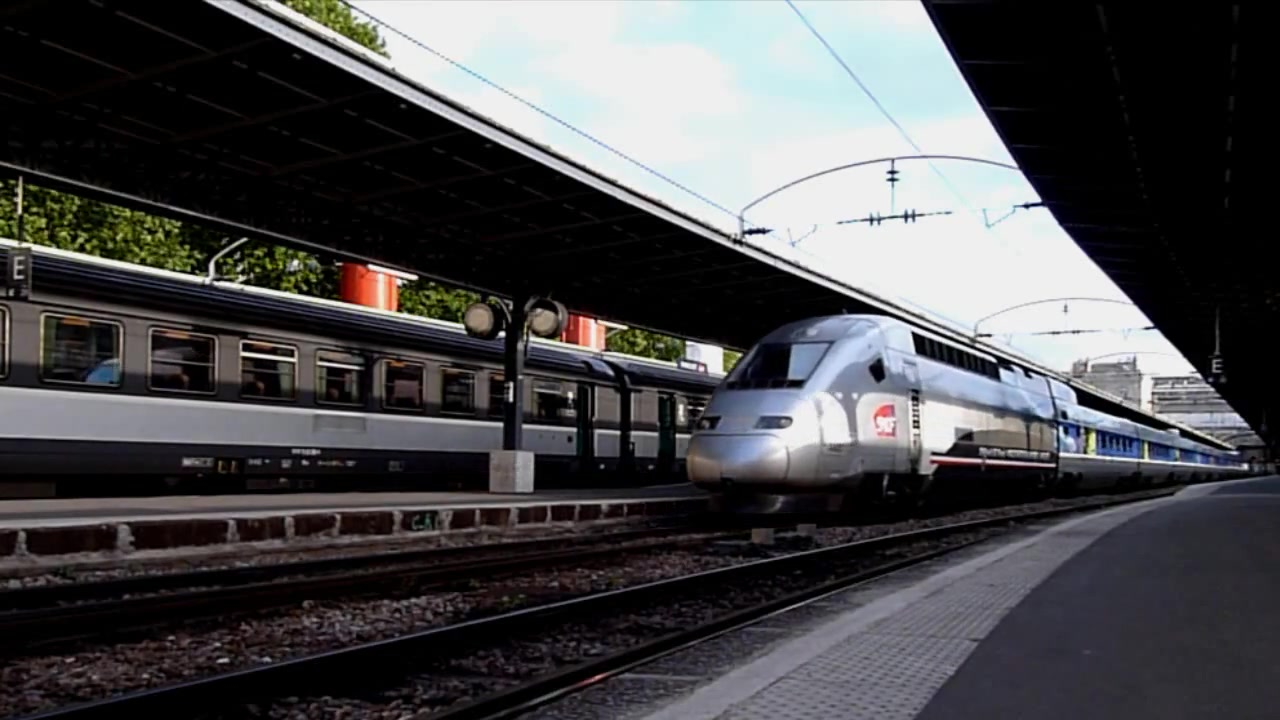train: (682, 315, 1252, 505)
